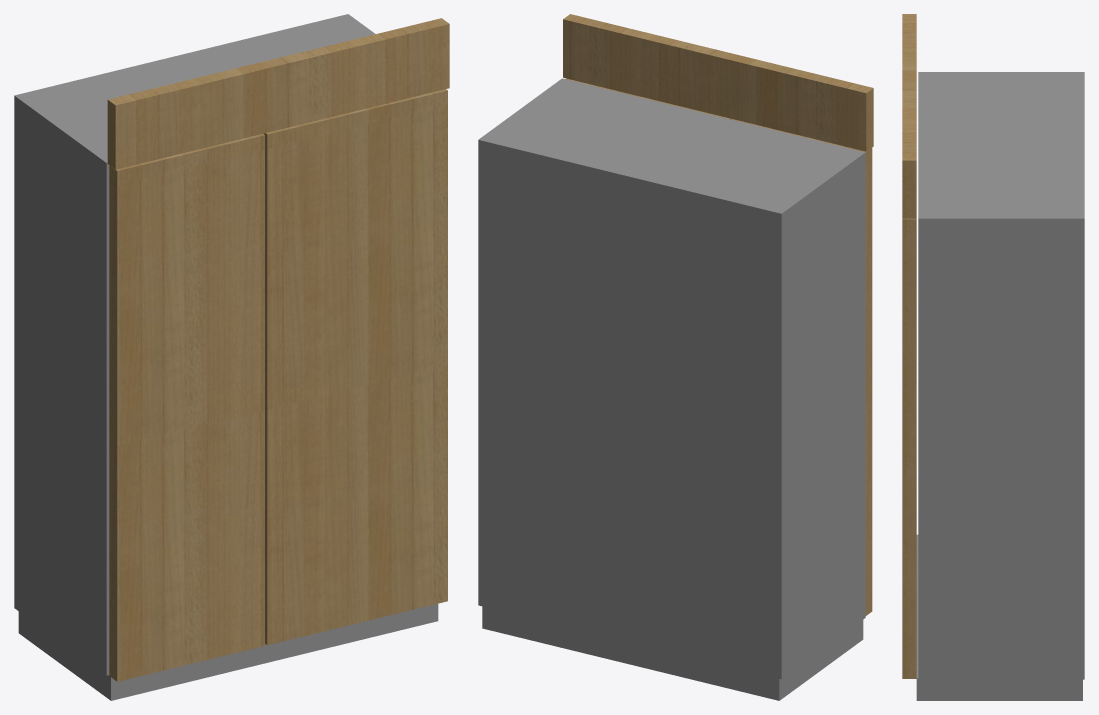
Rendered from KSSO48FM.gltf.
3 renders of one model, left to right at view 1: azimuth 30°, elevation 25°; view 2: azimuth 150°, elevation 25°; view 3: azimuth 270°, elevation 25°, orthographic. The views are drawn at different scales.
Visible parts, largest first — view 1: Group_6, SketchUp, Group_7, Group_5; view 2: SketchUp, Group_5, Group_7; view 3: SketchUp, Group_6, Group_5.
Boxes of the visible parts, box(x1,y1,x2,y2) form: Group_6: box(263, 89, 447, 645); SketchUp: box(14, 14, 449, 675); Group_7: box(109, 134, 264, 681); Group_5: box(18, 603, 438, 700); SketchUp: box(478, 14, 873, 679); Group_5: box(482, 606, 863, 700); Group_7: box(732, 119, 872, 615); SketchUp: box(902, 14, 1084, 679); Group_6: box(902, 218, 916, 678); Group_5: box(916, 534, 1082, 700).
Bounding box in the file's own units: 1.23 × 2.11 × 0.6445.
Materials: 3 (2 with a texture image).
